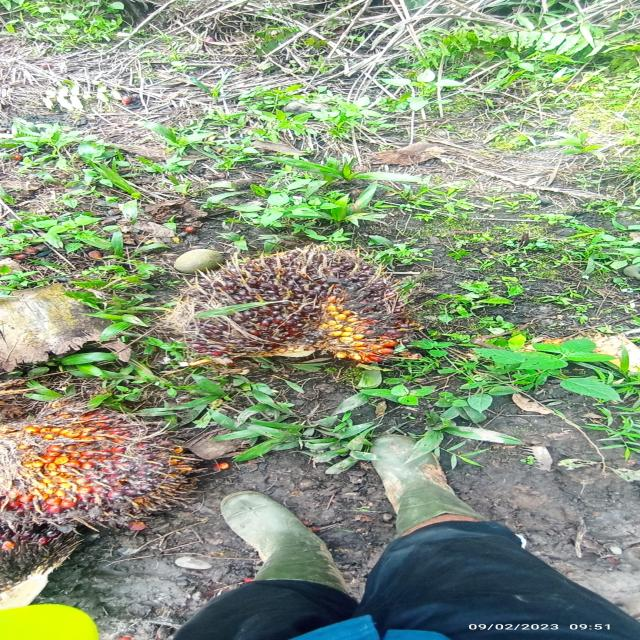fraksi 00: (141, 225, 420, 382)
fraksi 3: (4, 379, 204, 567)
